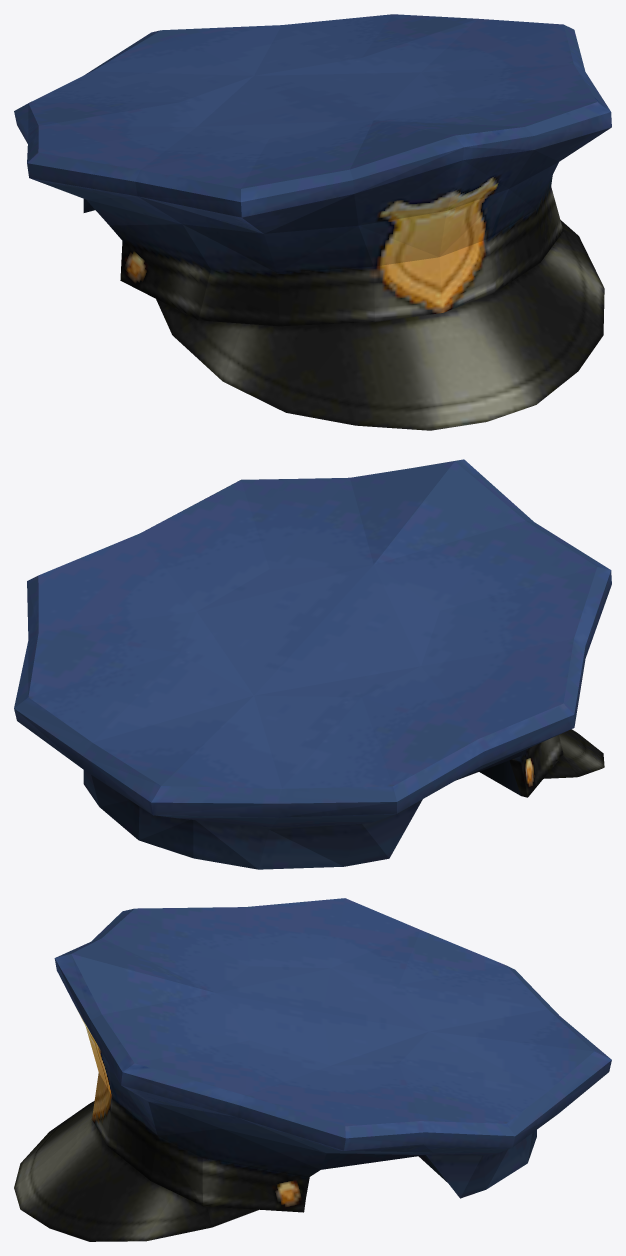
3 renders of one model, top to bottom at view 1: azimuth 30°, elevation 25°; view 2: azimuth 150°, elevation 25°; view 3: azimuth 270°, elevation 25°, orthographic. The views are drawn at different scales.
Visible parts, largest first — view 1: hatPolice_0; view 2: hatPolice_0; view 3: hatPolice_0.
Boxes of the visible parts, x1=… form: hatPolice_0: x1=14, y1=14, x2=611, y2=430; hatPolice_0: x1=14, y1=459, x2=611, y2=869; hatPolice_0: x1=14, y1=898, x2=611, y2=1241.
Size of the model in its own units: 53.29 by 24.52 by 56.62.
Materials: 1 (1 with a texture image).
